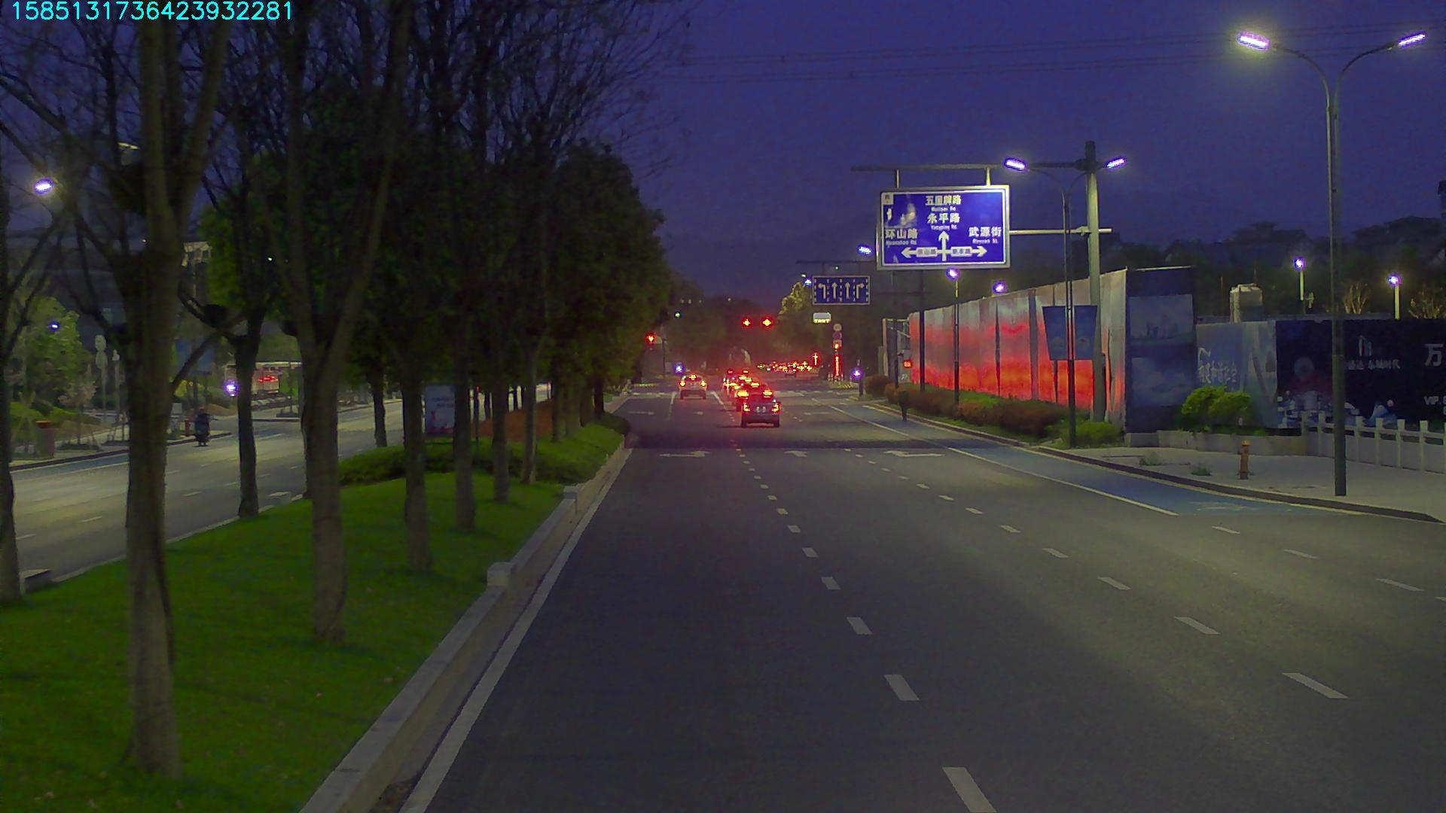red: (740, 311, 755, 327), (759, 311, 771, 328)
